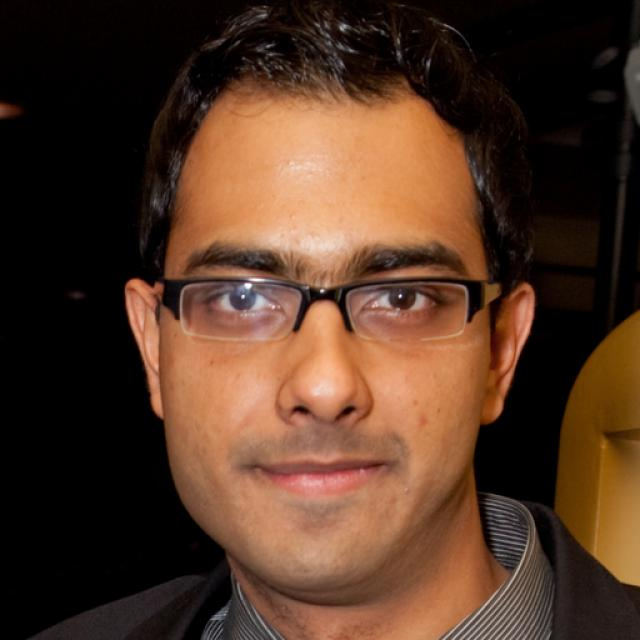Dark Circle: (353, 310, 445, 341), (204, 311, 285, 335)
